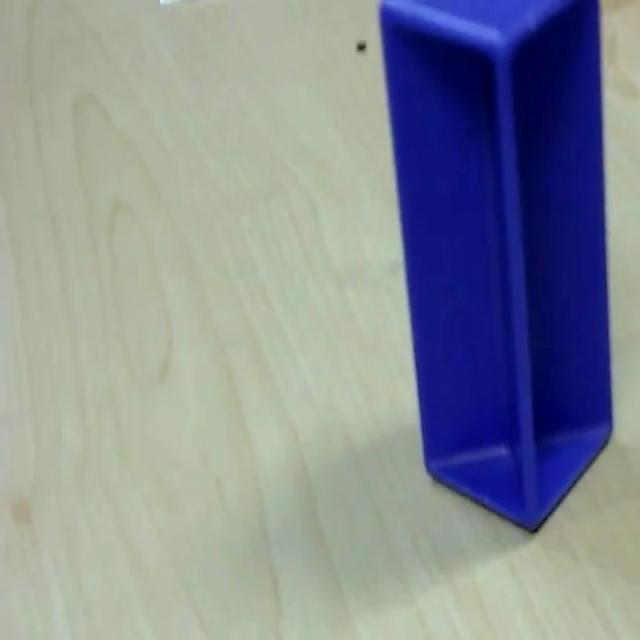blue_block: (376, 0, 614, 532)
